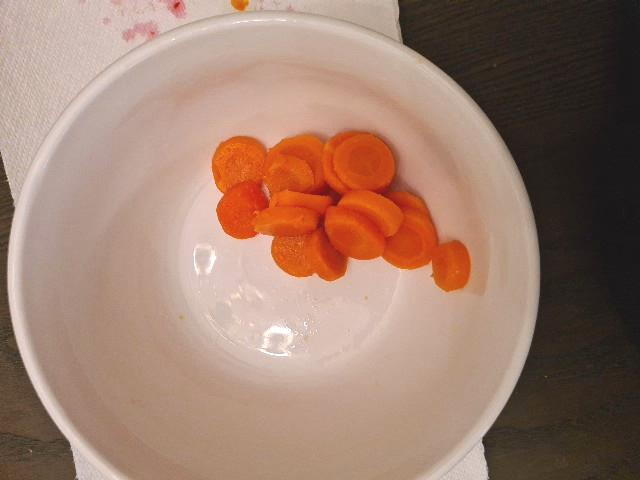kichen waste: (212, 132, 470, 292)
